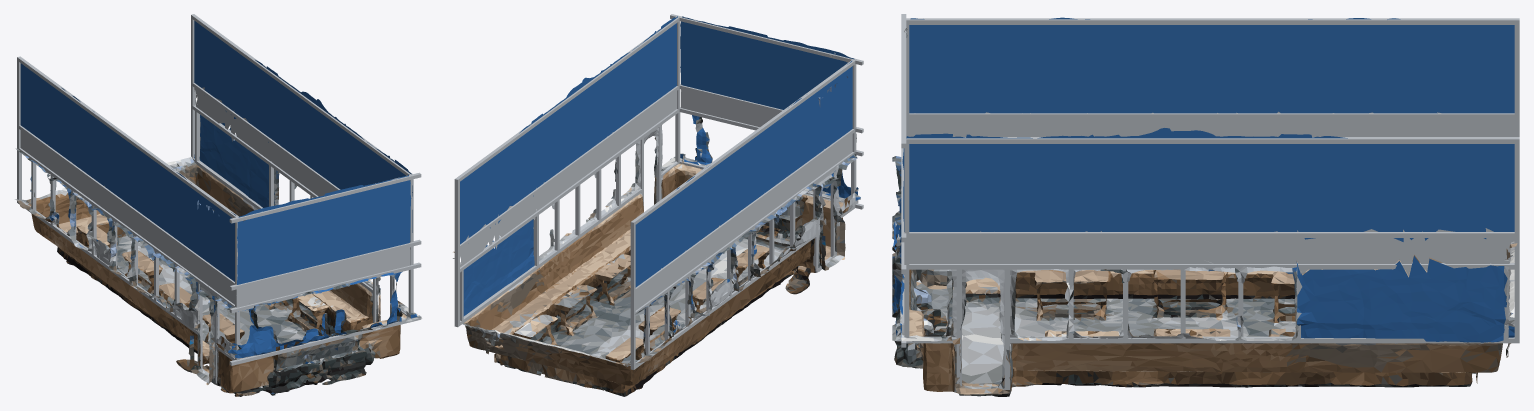
File: scan_v2_10.obj
3 renders of one model, left to right at view 1: azimuth 30°, elevation 25°; view 2: azimuth 150°, elevation 25°; view 3: azimuth 270°, elevation 25°, orthographic. The views are drawn at different scales.
Bounding box in the file's own units: 4.87 × 4.81 × 9.81.
1 material, 1 textured.
